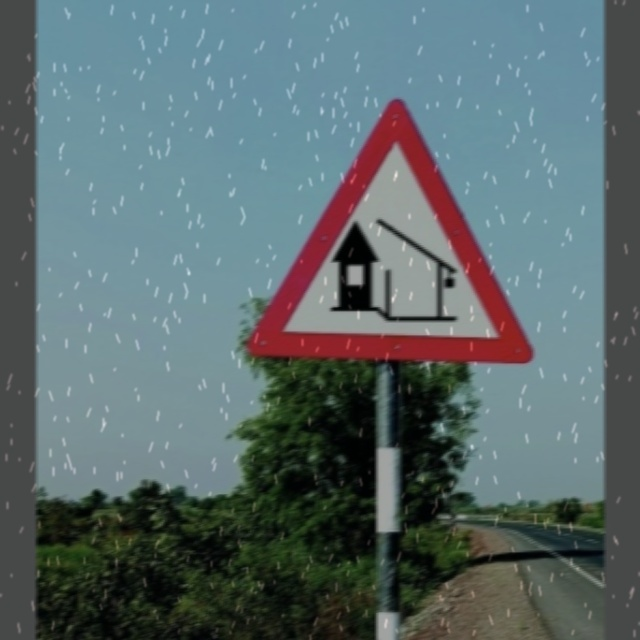Barrier_Ahead: (248, 98, 537, 365)
